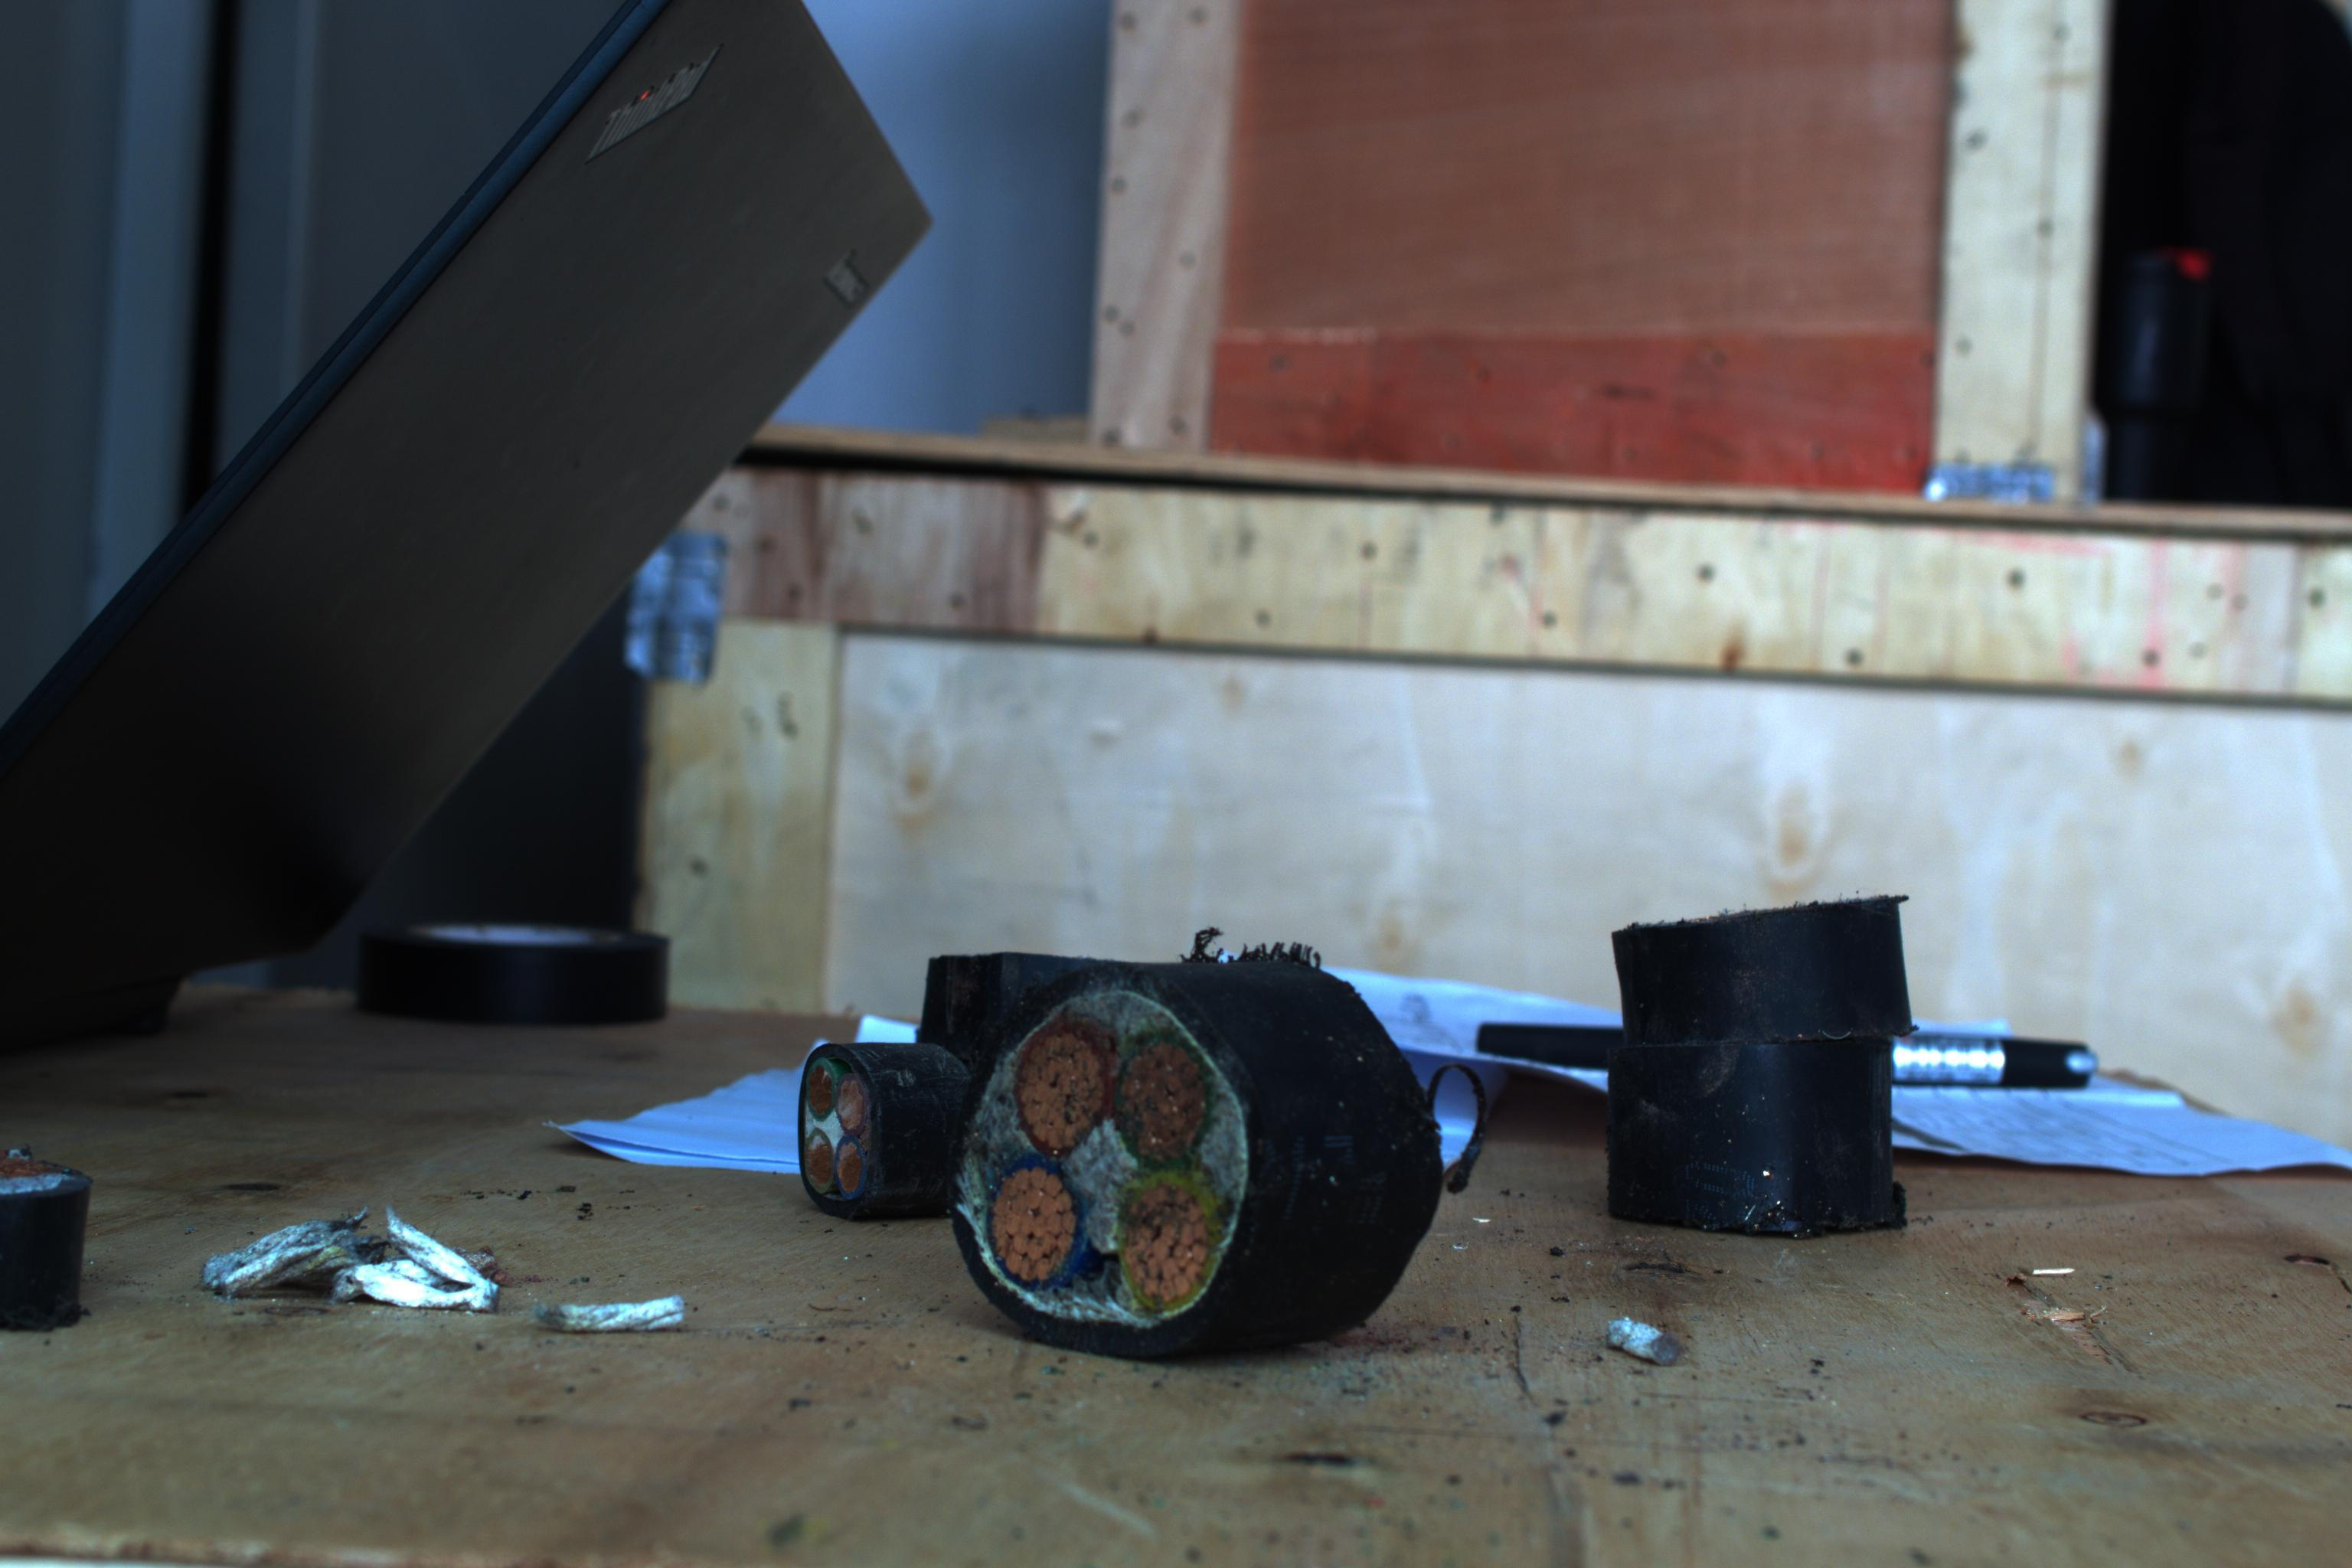YJV_0.6_1kV_4x120: (952, 961, 1253, 1337)
